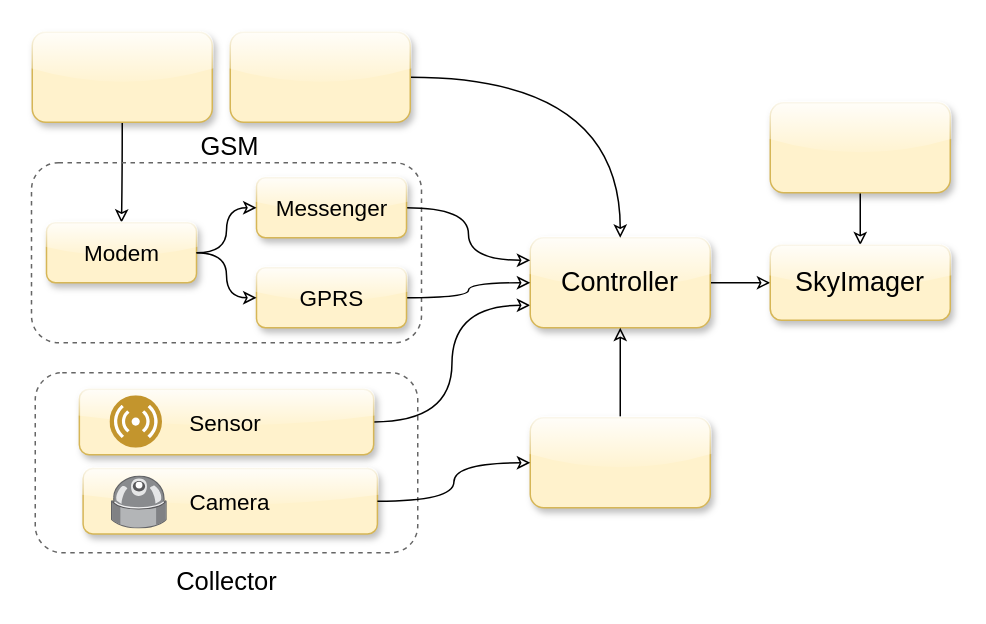
Some shapes in this 986 by 624 pixel diagram are drawn without their labels. The centre of each missing label's shape, as x and y in pixels:
Configuration: the point at 861,149
Image Preprocessor: the point at 621,464
Logger: the point at 123,79
Utils: the point at 321,79
